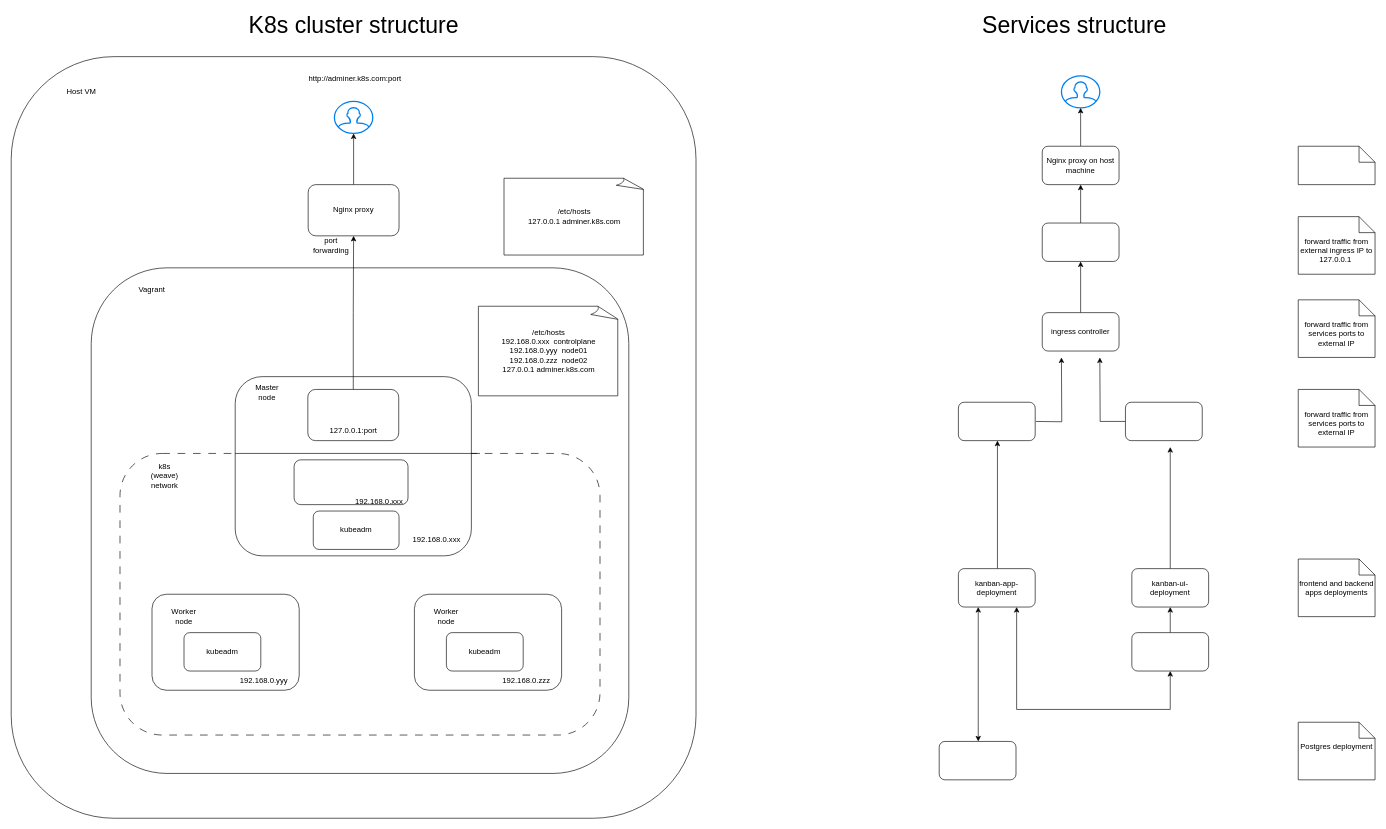
Image size: 1386x829. Some labels were removed from this diagram. The box of each missing label's shape, as (x1, y1, x2, y2) in pixels:
Control plane Nginx proxy: (307, 389, 399, 441)
external kanban UI nginx: (1131, 632, 1209, 671)
ingress-nginx-controller: (293, 459, 408, 505)
kanban-app-svc port 8080: (958, 402, 1035, 441)
kanban-ui-svc port 80: (1125, 402, 1202, 441)
Nginx proxy on control plain node: (1042, 222, 1119, 261)
port forwarding from Vagrant VM port to 80: (1298, 146, 1375, 185)
postgres-deployment: (939, 741, 1016, 780)
